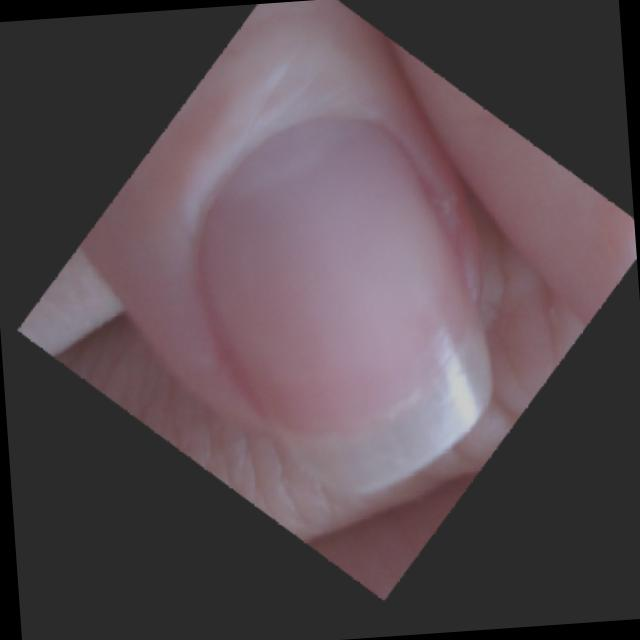Nail: (205, 117, 490, 494)
